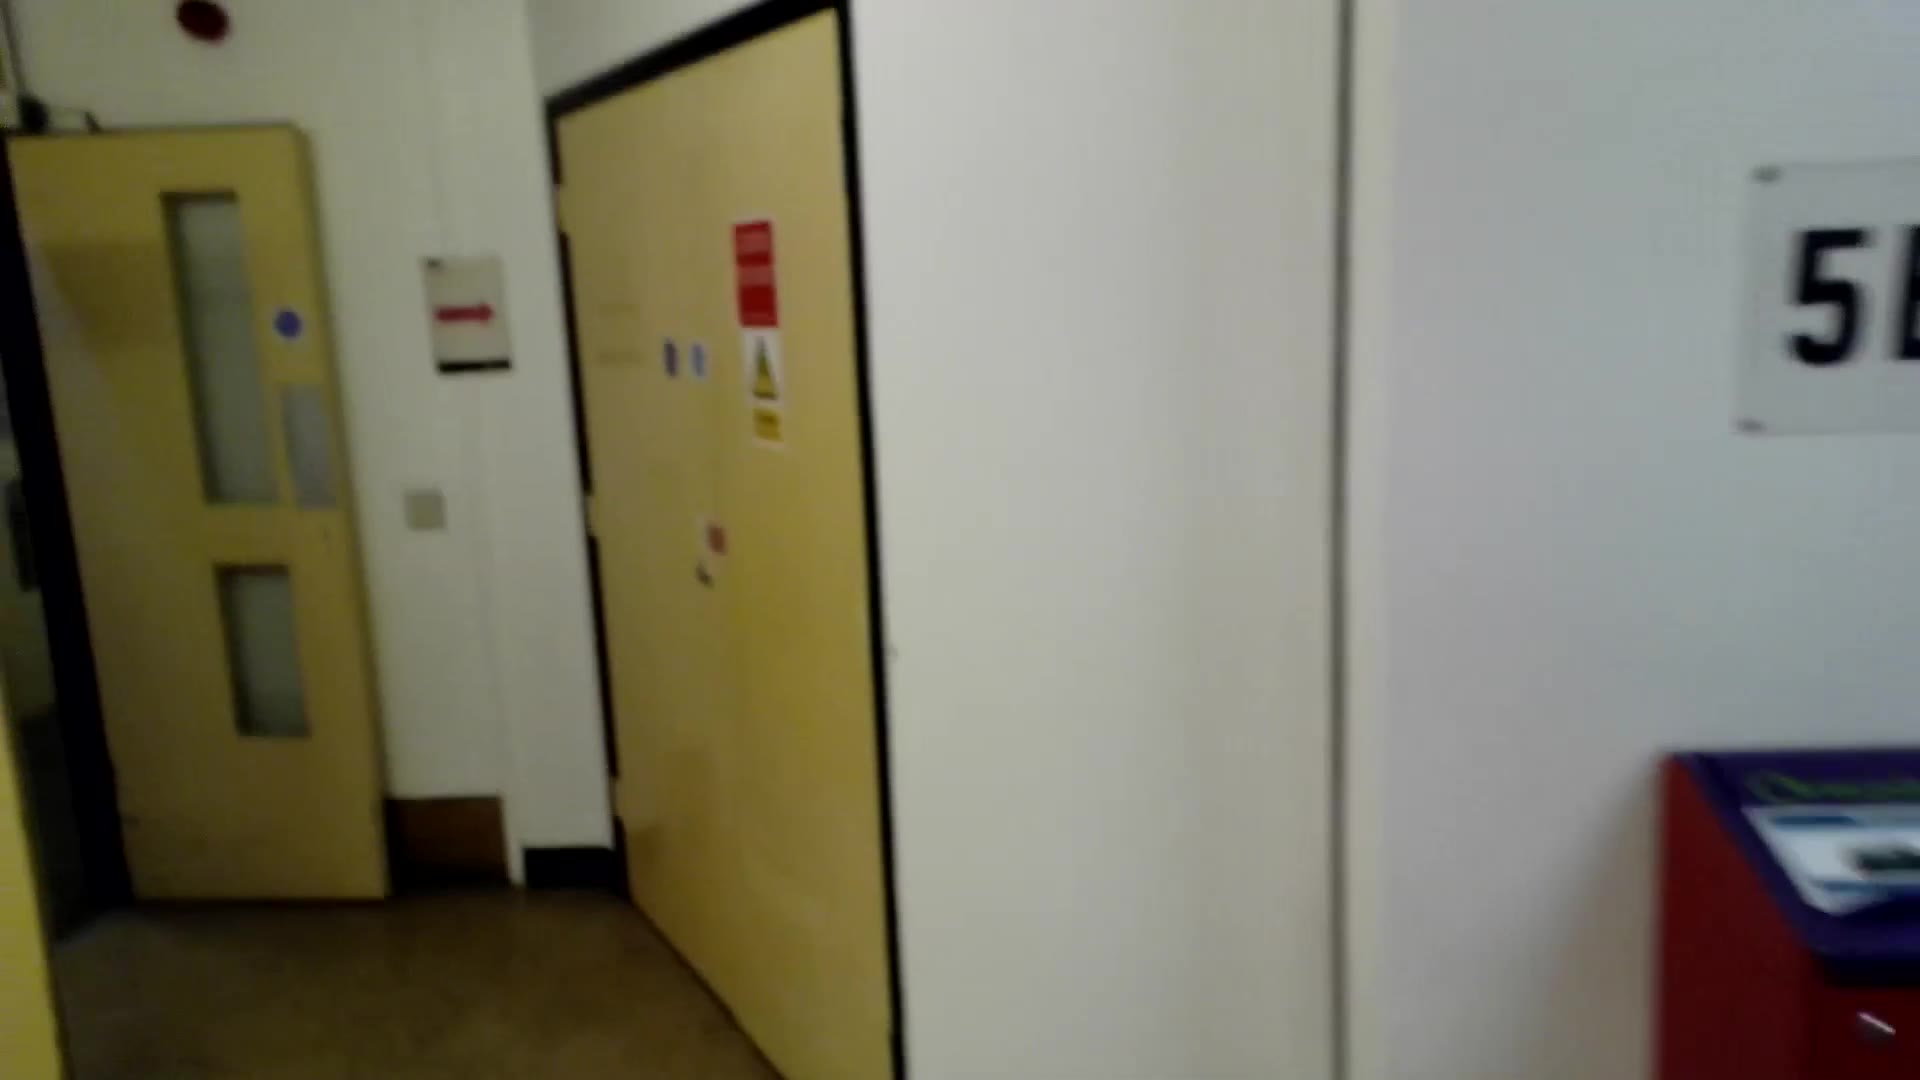Door: (11, 109, 324, 926)
